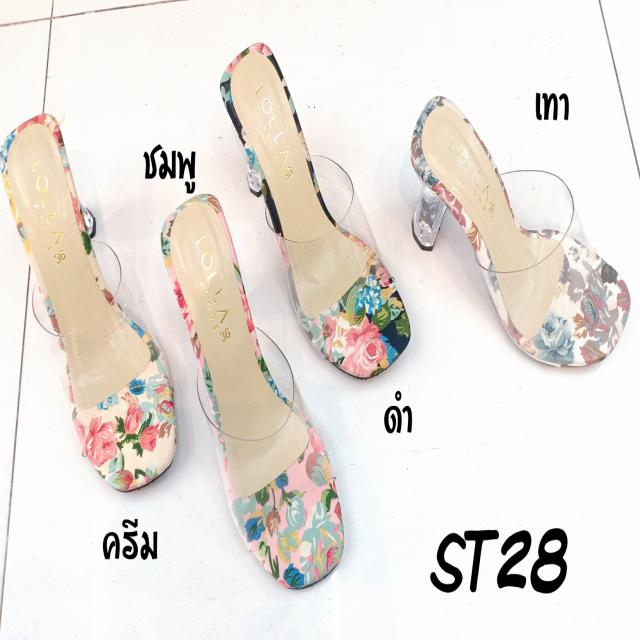black: (226, 52, 403, 376)
cream: (9, 126, 169, 484)
grey: (415, 97, 625, 368)
pink: (160, 198, 341, 587)
